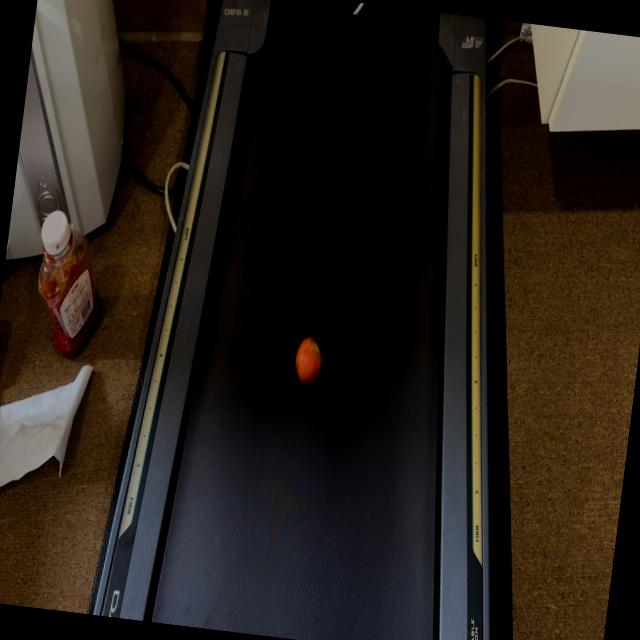Trash: (291, 332, 326, 390)
